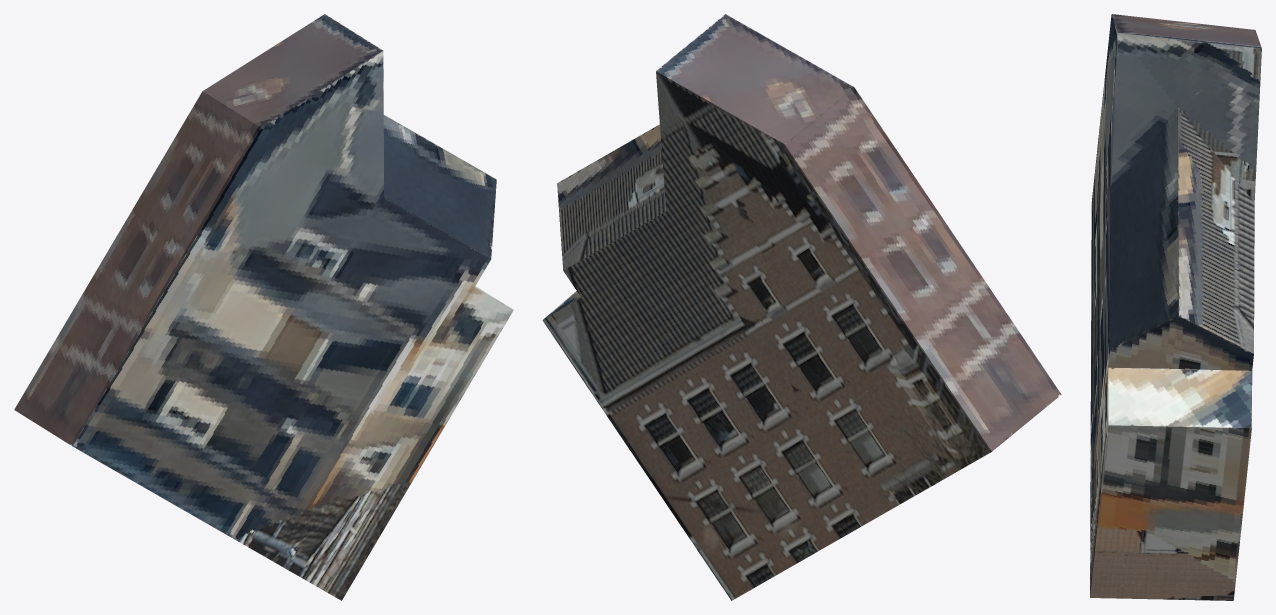
3 views of the same model, side by side, from view 1: azimuth 30°, elevation 25°; view 2: azimuth 150°, elevation 25°; view 3: azimuth 270°, elevation 25° (orthographic). The views are drawn at different scales.
Visible parts, largest first — view 1: BAG_0599100000671721 (×3); view 2: BAG_0599100000671721 (×3); view 3: BAG_0599100000671721 (×5).
Boxes of the visible parts, box(x1,y1,x2,y2) form: BAG_0599100000671721 (×3): box(14, 14, 513, 600); BAG_0599100000671721 (×3): box(542, 14, 1061, 600); BAG_0599100000671721 (×5): box(1090, 14, 1261, 600).
Bounding box in the file's own units: 19.77 × 21.72 × 5.64.
5 materials, 5 textured.
